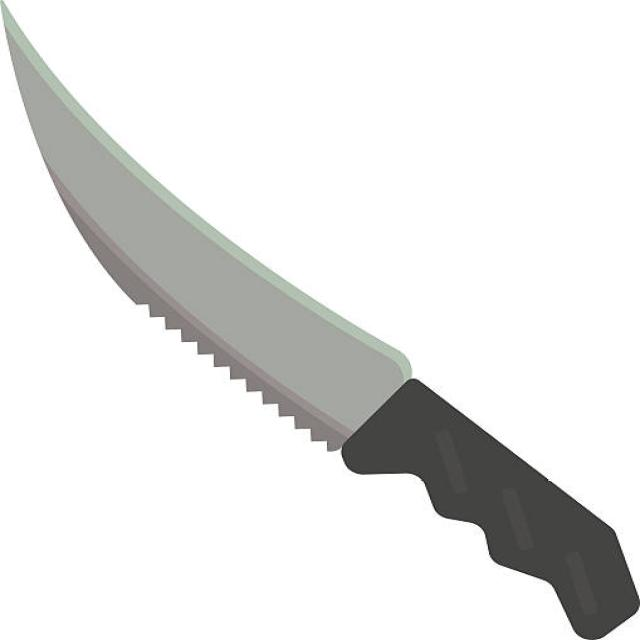knife: (1, 4, 640, 640)
